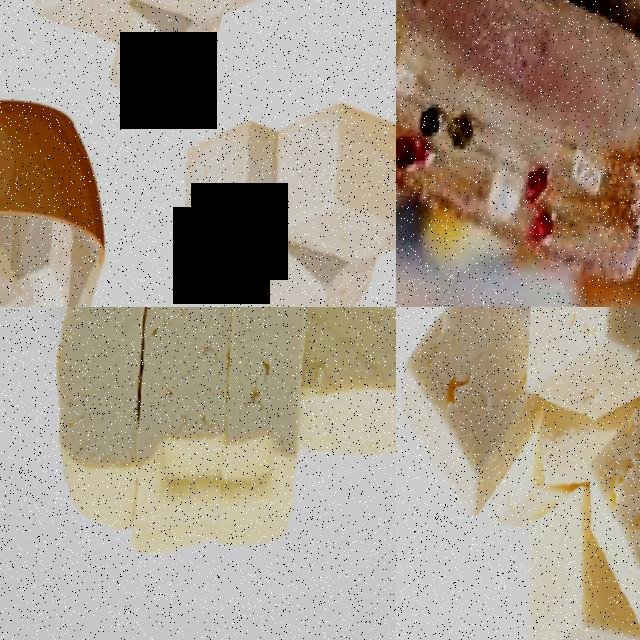tofu: (400, 307, 535, 523), (43, 307, 148, 529), (272, 100, 396, 266), (137, 307, 236, 493), (221, 307, 309, 496), (295, 307, 396, 467), (181, 119, 275, 280), (586, 377, 640, 630), (524, 307, 640, 418), (32, 0, 120, 39)
